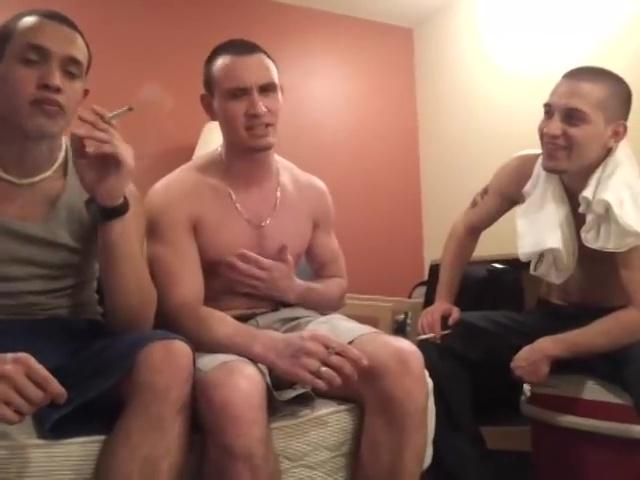cigarette: (103, 103, 137, 124), (415, 327, 453, 341)
